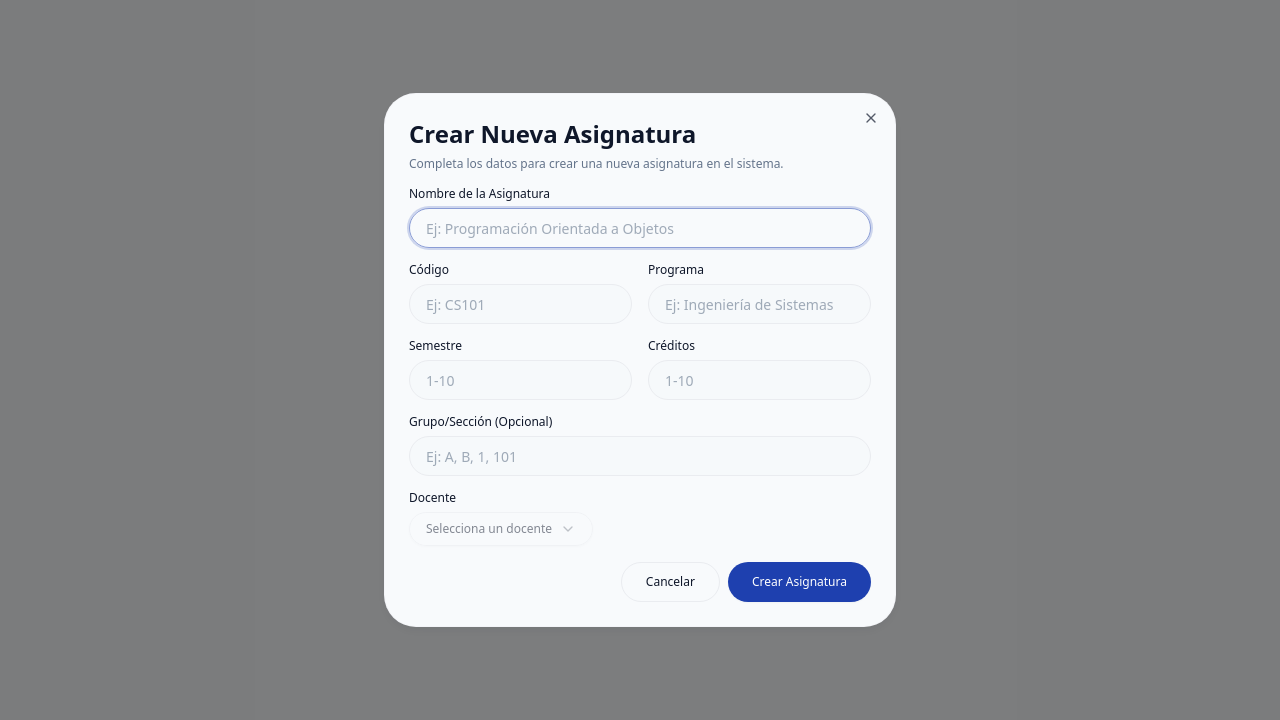
Test: CreateSubjectModal › debería validar que el código es requerido
Type "Test Subject" into the field labelled "Nombre de la Asignatura" at (640, 228), box [409,208,871,248]
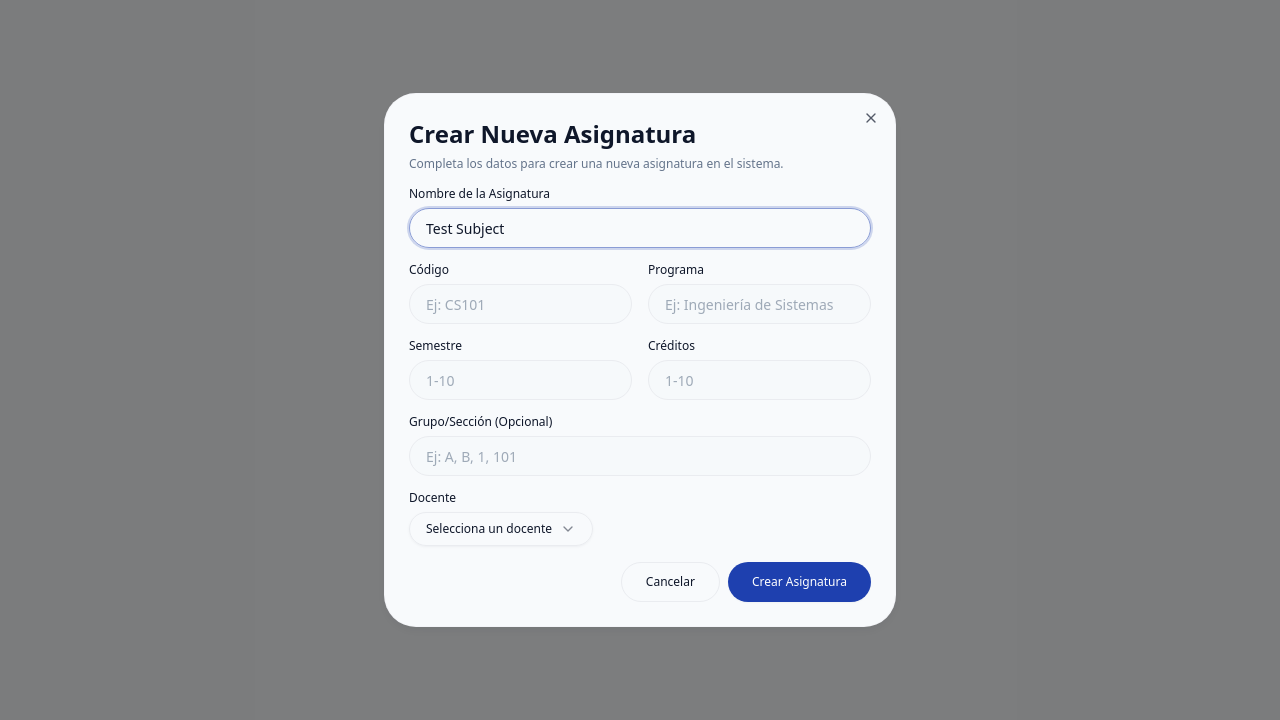
Click the button "Crear Asignatura" at (799, 582), box [728,562,871,602]
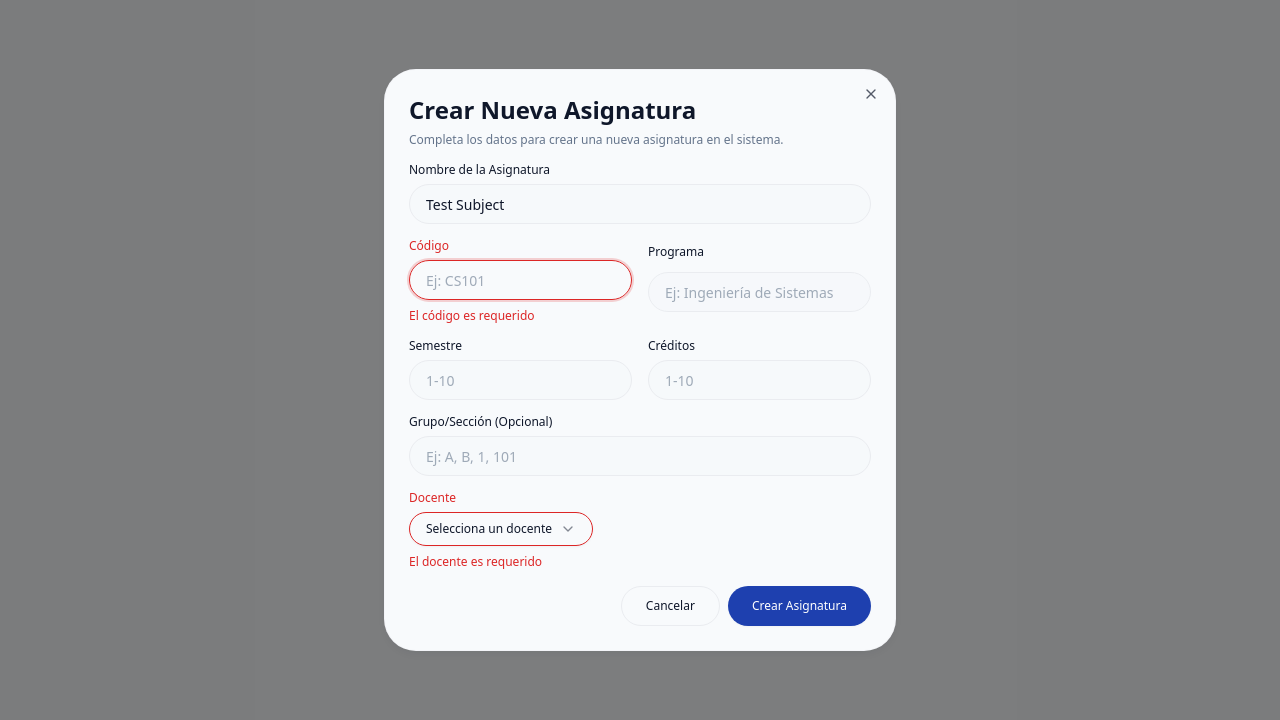
Check: the text "El código es requerido" is shown, box [409,307,534,324]
